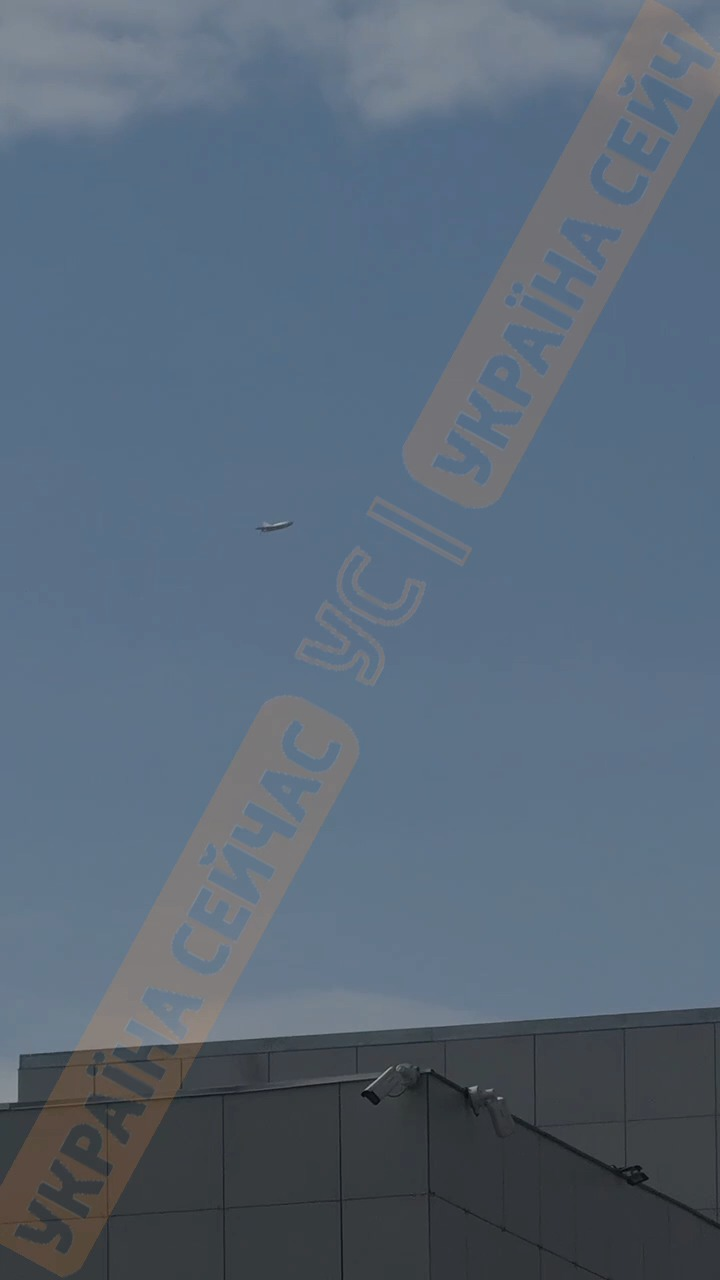shahed: (253, 513, 299, 539)
